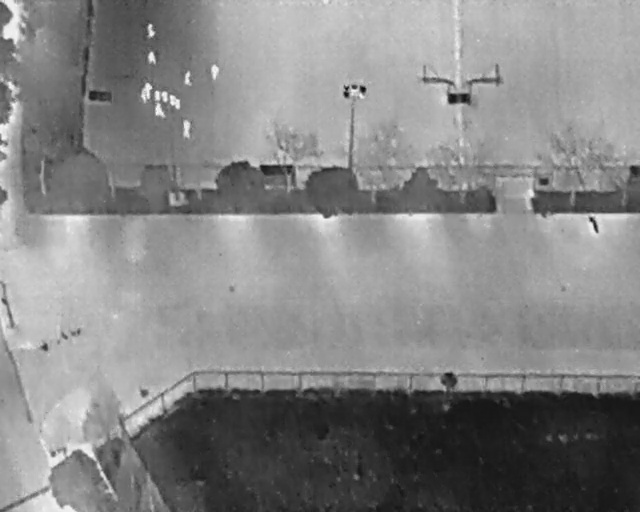Person: (182, 119, 191, 140), (154, 103, 166, 118), (210, 64, 219, 81), (184, 70, 193, 86), (144, 82, 152, 100), (148, 51, 157, 65), (141, 88, 148, 105), (147, 24, 155, 38)
